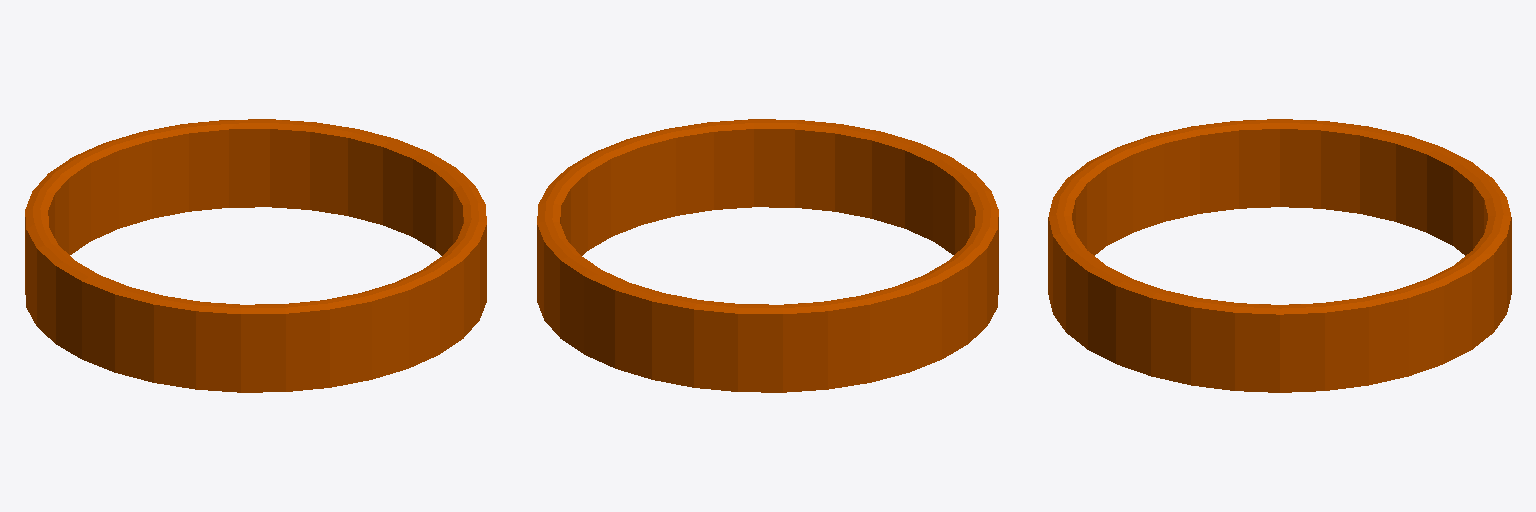
File: goldring.obj
3 views of the same model, side by side, from view 1: azimuth 30°, elevation 25°; view 2: azimuth 150°, elevation 25°; view 3: azimuth 270°, elevation 25° (orthographic).
Visible parts, largest first — view 1: Cylinder_Cylinder.002; view 2: Cylinder_Cylinder.002; view 3: Cylinder_Cylinder.002.
Boxes of the visible parts, x1,y1,x2,y2 form: Cylinder_Cylinder.002: [25, 119, 486, 392]; Cylinder_Cylinder.002: [537, 119, 998, 392]; Cylinder_Cylinder.002: [1048, 119, 1511, 392].
Size of the model in its own units: 2 by 0.4 by 2.